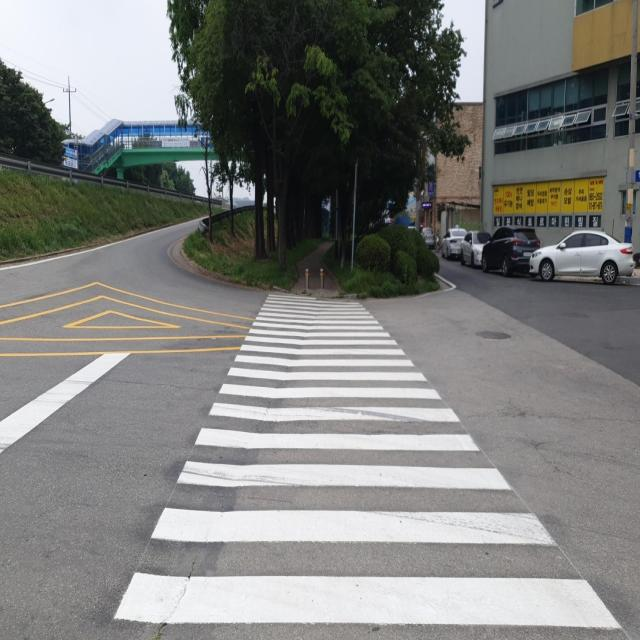횡단보도: (112, 293, 623, 633)
